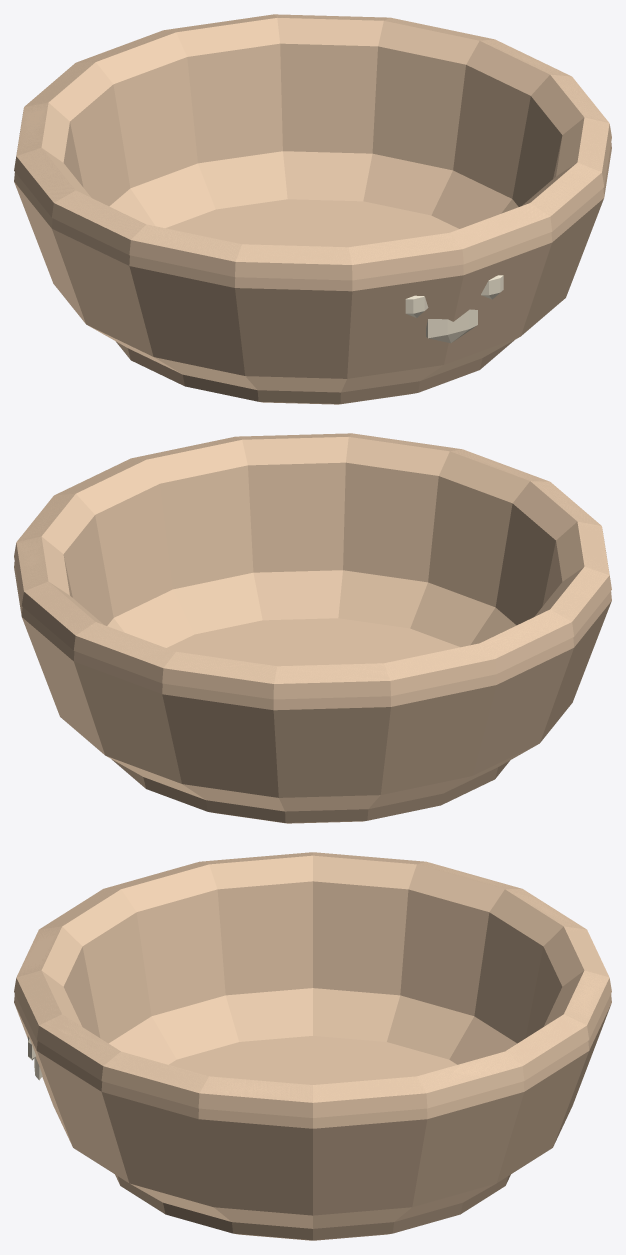
File: crafted-coop-food-0.glb
3 renders of one model, top to bottom at view 1: azimuth 30°, elevation 25°; view 2: azimuth 150°, elevation 25°; view 3: azimuth 270°, elevation 25°, orthographic.
Visible parts, largest first — view 1: ceramic-bowl, glazed-rim, foot-ring, paw-pad; view 2: ceramic-bowl, glazed-rim, foot-ring; view 3: ceramic-bowl, glazed-rim, foot-ring.
Boxes of the visible parts, x1,y1,x2,y2 form: ceramic-bowl: (14,14,611,392); glazed-rim: (14,14,611,280); foot-ring: (116,340,514,404); paw-pad: (426,309,477,343); ceramic-bowl: (14,433,611,811); glazed-rim: (14,433,611,699); foot-ring: (111,759,509,823); ceramic-bowl: (14,852,611,1228); glazed-rim: (14,852,611,1117); foot-ring: (115,1174,510,1240).
Bounding box in the file's own units: 0.76 × 0.265 × 0.76.
